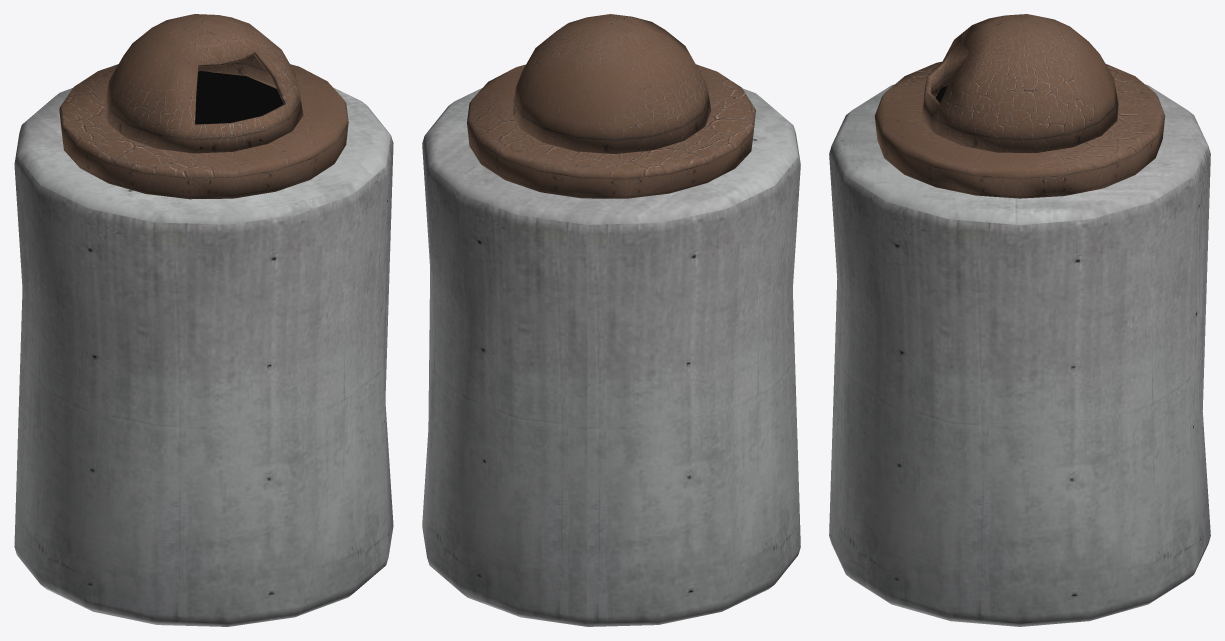
File: outdoor_cement_trashcan_round_1.fbx
3 renders of one model, left to right at view 1: azimuth 30°, elevation 25°; view 2: azimuth 150°, elevation 25°; view 3: azimuth 270°, elevation 25°, orthographic.
Parts seen in each view (by area): view 1: canCement_round_B, canShell, canRim, Cylinder01; view 2: canCement_round_B, canShell, canRim; view 3: canCement_round_B, canShell, canRim.
Part boxes in pixels (box(x1,y1,x2,y2)): canCement_round_B: box(14, 87, 393, 626); canShell: box(104, 14, 303, 153); canRim: box(59, 64, 348, 199); Cylinder01: box(195, 71, 283, 124); canCement_round_B: box(422, 88, 800, 626); canShell: box(511, 14, 711, 153); canRim: box(467, 64, 755, 198); canCement_round_B: box(829, 84, 1210, 626); canShell: box(921, 14, 1118, 152); canRim: box(874, 61, 1165, 198).
Size of the model in its own units: 0.762 by 1.17 by 0.762.
